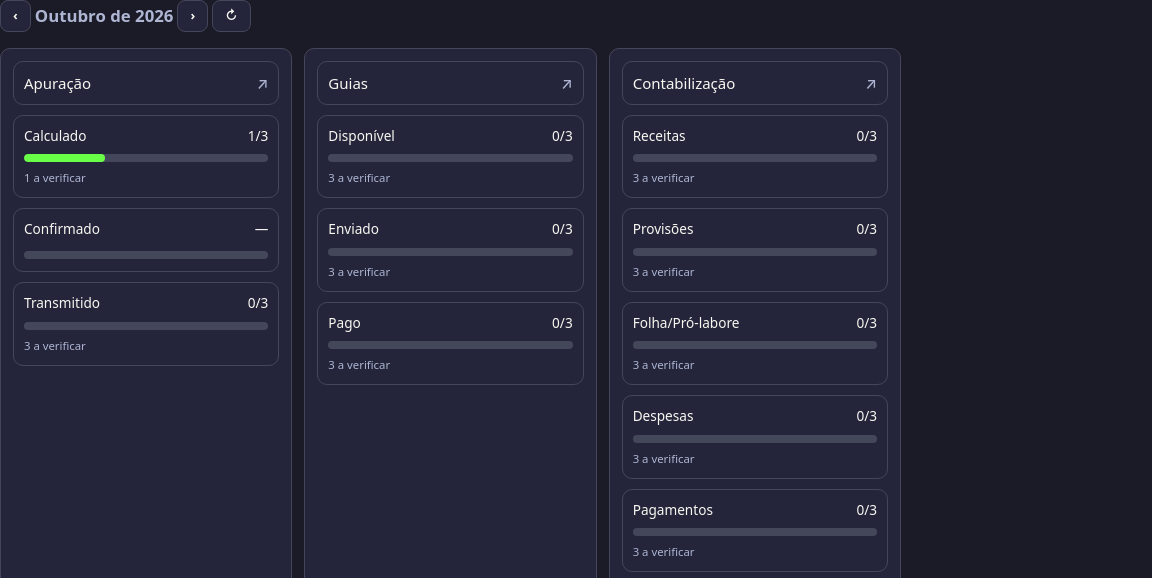
Test: calculadas e não calculadas pertencem ao mesmo universo da barra; filtrar não grava
Click the button with aria-label "Calculado 1/3 empresas" at (146, 157), box [13, 115, 279, 198]
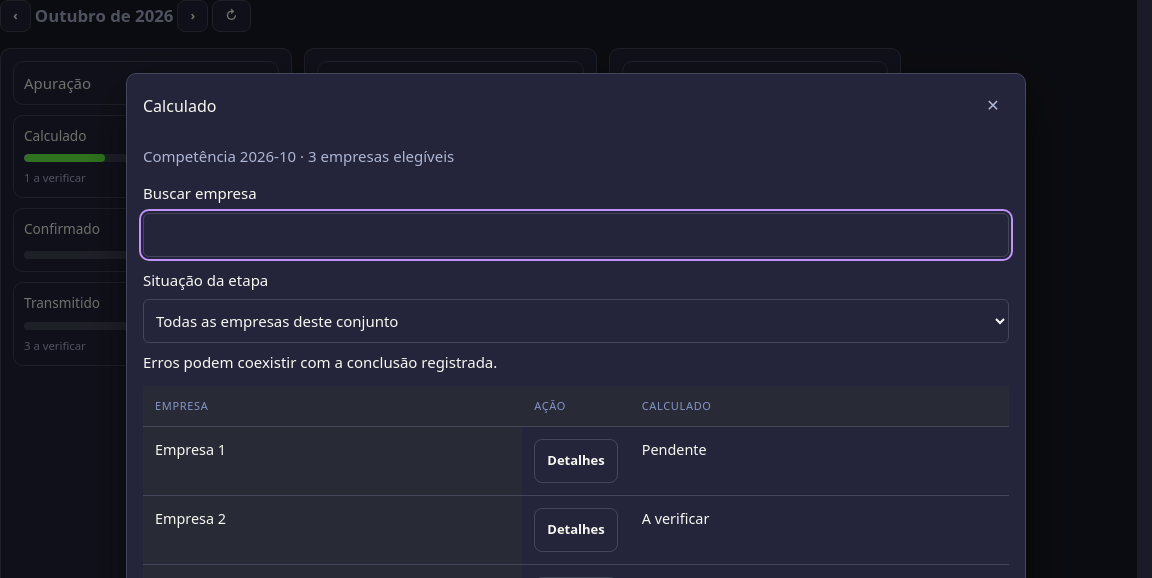
Select "Calculadas" in the dropdown labelled "Situação da etapa" at (576, 321), box [143, 299, 1009, 343]
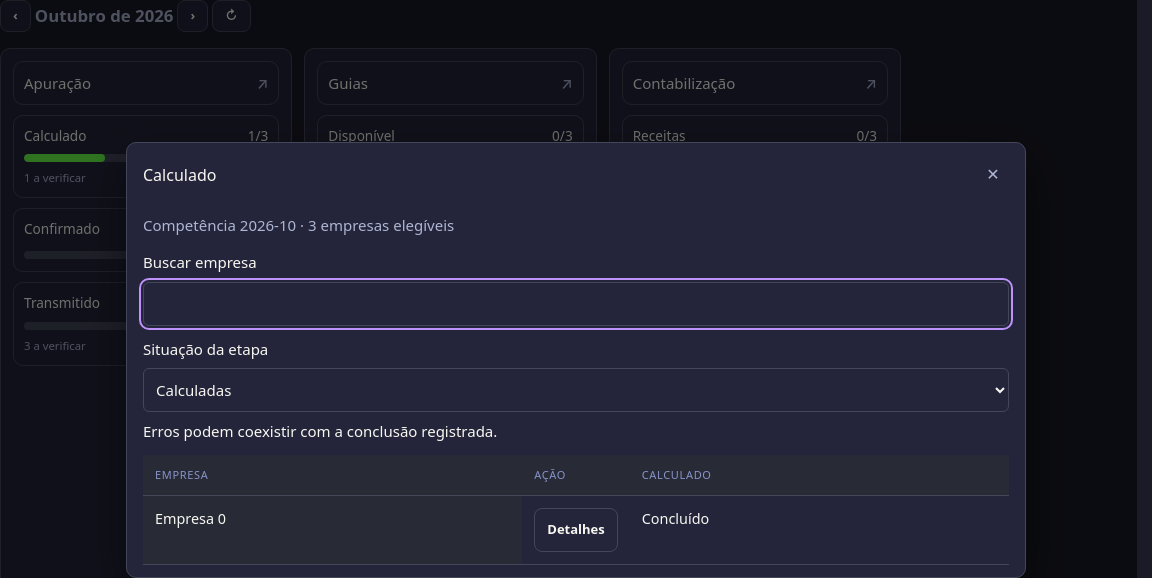
expect the column heading "Empresa 0" is shown: met, box [143, 496, 522, 565]
Select "Não calculadas" in the dropdown labelled "Situação da etapa" at (576, 390), box [143, 368, 1009, 412]
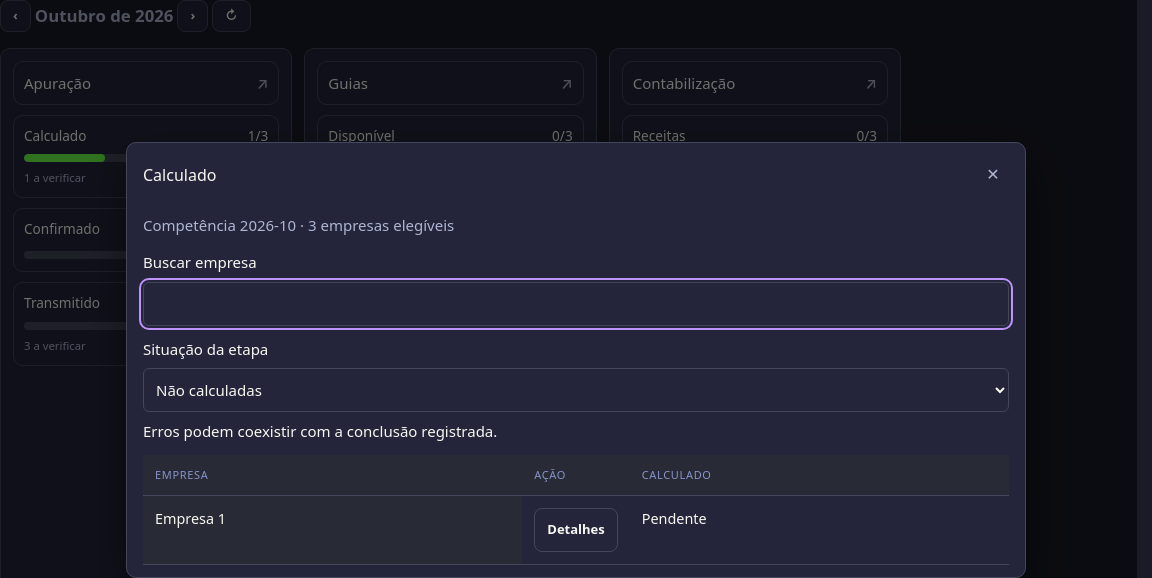
expect the column heading "Empresa 1" is shown: met, box [143, 496, 522, 565]
Select "A verificar" in the dropdown labelled "Situação da etapa" at (576, 390), box [143, 368, 1009, 412]
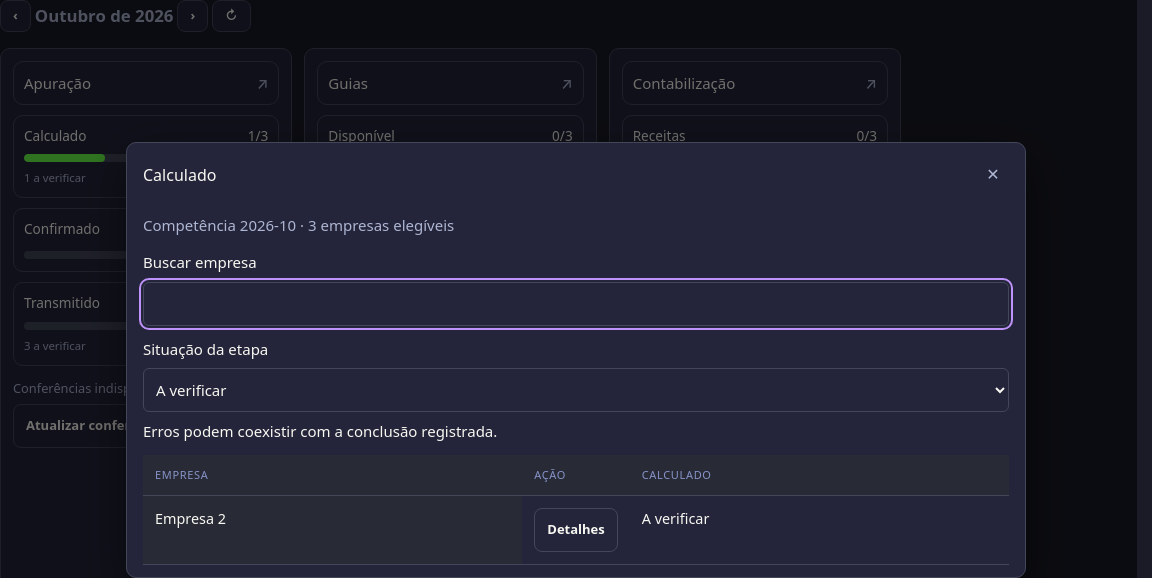
expect the column heading "Empresa 2" is shown: met, box [143, 496, 522, 565]
